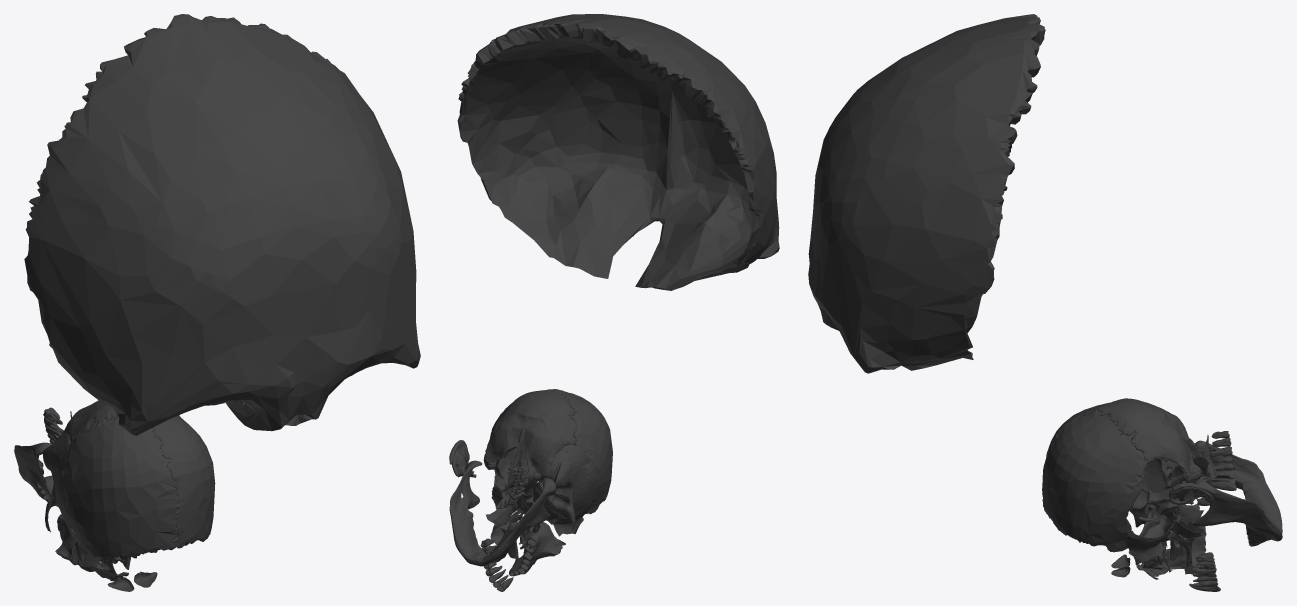
File: sharedassets91.glb
The picture shows the model from 3 angles, left to right: view 1: azimuth 30°, elevation 25°; view 2: azimuth 150°, elevation 25°; view 3: azimuth 270°, elevation 25°; orthographic projection. The views are drawn at different scales.
Parts seen in each view (by area): view 1: 0024_Frontal__001097, 0100_Parietal, R__001095, 0102_Parietal, L__001094, 0006_Temporal, L__001110, 0072_Mandible_body_001091, 0009_Occipital__001132, 0082_Maxilla, L_ body_001063_004, 0020_Frontal sinuses__001098; view 2: 0024_Frontal__001097, 0009_Occipital__001132, 0072_Mandible_body_001091, 0006_Temporal, L__001110, 0100_Parietal, R__001095, 0004_Sphenoid__001143, 0082_Maxilla, L_ body_001063_004, 0077_Auricular _ear_ cartilage, R__301727, 0066_Maxilla, R_body_001078_004; view 3: 0024_Frontal__001097, 0102_Parietal, L__001094, 0072_Mandible_body_001091, 0009_Occipital__001132, 0004_Sphenoid__001143, 0077_Auricular _ear_ cartilage, R__301727, 0006_Temporal, L__001110, 0066_Maxilla, R_body_001078_004.
Part boxes in pixels (left/top/right/bottom): 0024_Frontal__001097: left=24, top=14, right=420, bottom=435; 0100_Parietal, R__001095: left=63, top=417, right=179, bottom=559; 0102_Parietal, L__001094: left=152, top=415, right=215, bottom=548; 0006_Temporal, L__001110: left=43, top=433, right=72, bottom=532; 0072_Mandible_body_001091: left=14, top=442, right=53, bottom=502; 0009_Occipital__001132: left=61, top=400, right=119, bottom=443; 0082_Maxilla, L_ body_001063_004: left=55, top=514, right=118, bottom=579; 0020_Frontal sinuses__001098: left=107, top=571, right=157, bottom=591; 0024_Frontal__001097: left=457, top=14, right=779, bottom=290; 0009_Occipital__001132: left=483, top=389, right=576, bottom=494; 0072_Mandible_body_001091: left=449, top=460, right=556, bottom=566; 0006_Temporal, L__001110: left=533, top=444, right=601, bottom=530; 0100_Parietal, R__001095: left=559, top=390, right=612, bottom=514; 0004_Sphenoid__001143: left=486, top=476, right=592, bottom=536; 0082_Maxilla, L_ body_001063_004: left=509, top=522, right=562, bottom=575; 0077_Auricular _ear_ cartilage, R__301727: left=449, top=440, right=476, bottom=477; 0066_Maxilla, R_body_001078_004: left=509, top=526, right=559, bottom=576; 0024_Frontal__001097: left=808, top=14, right=1045, bottom=373; 0102_Parietal, L__001094: left=1042, top=409, right=1147, bottom=552; 0072_Mandible_body_001091: left=1193, top=440, right=1282, bottom=546; 0009_Occipital__001132: left=1097, top=398, right=1202, bottom=488; 0004_Sphenoid__001143: left=1124, top=488, right=1203, bottom=564; 0077_Auricular _ear_ cartilage, R__301727: left=1168, top=483, right=1214, bottom=505; 0006_Temporal, L__001110: left=1143, top=438, right=1193, bottom=492; 0066_Maxilla, R_body_001078_004: left=1141, top=521, right=1206, bottom=575.
Bounding box in the file's own units: 0.175 × 0.2879 × 0.2196.
1 material, 1 textured.
